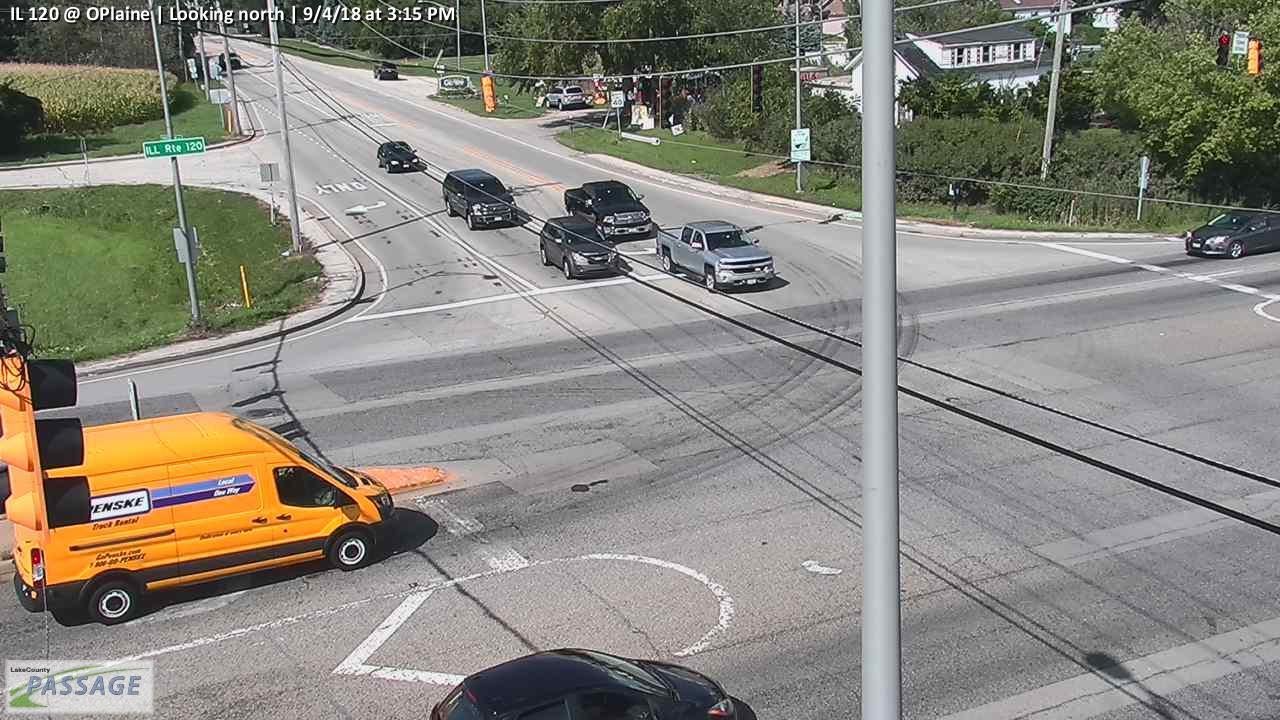SUV: (13, 413, 397, 625), (428, 647, 735, 720), (540, 216, 617, 280), (443, 167, 517, 230), (376, 141, 420, 173), (544, 82, 585, 110), (373, 61, 398, 80)
Sedan: (1183, 210, 1280, 258)
Truck: (655, 220, 774, 293), (564, 180, 651, 242)
